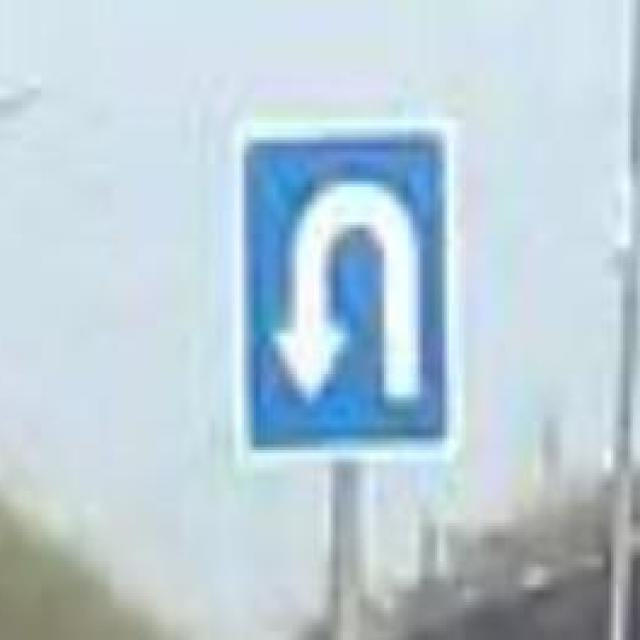U-turn: (233, 121, 454, 456)
